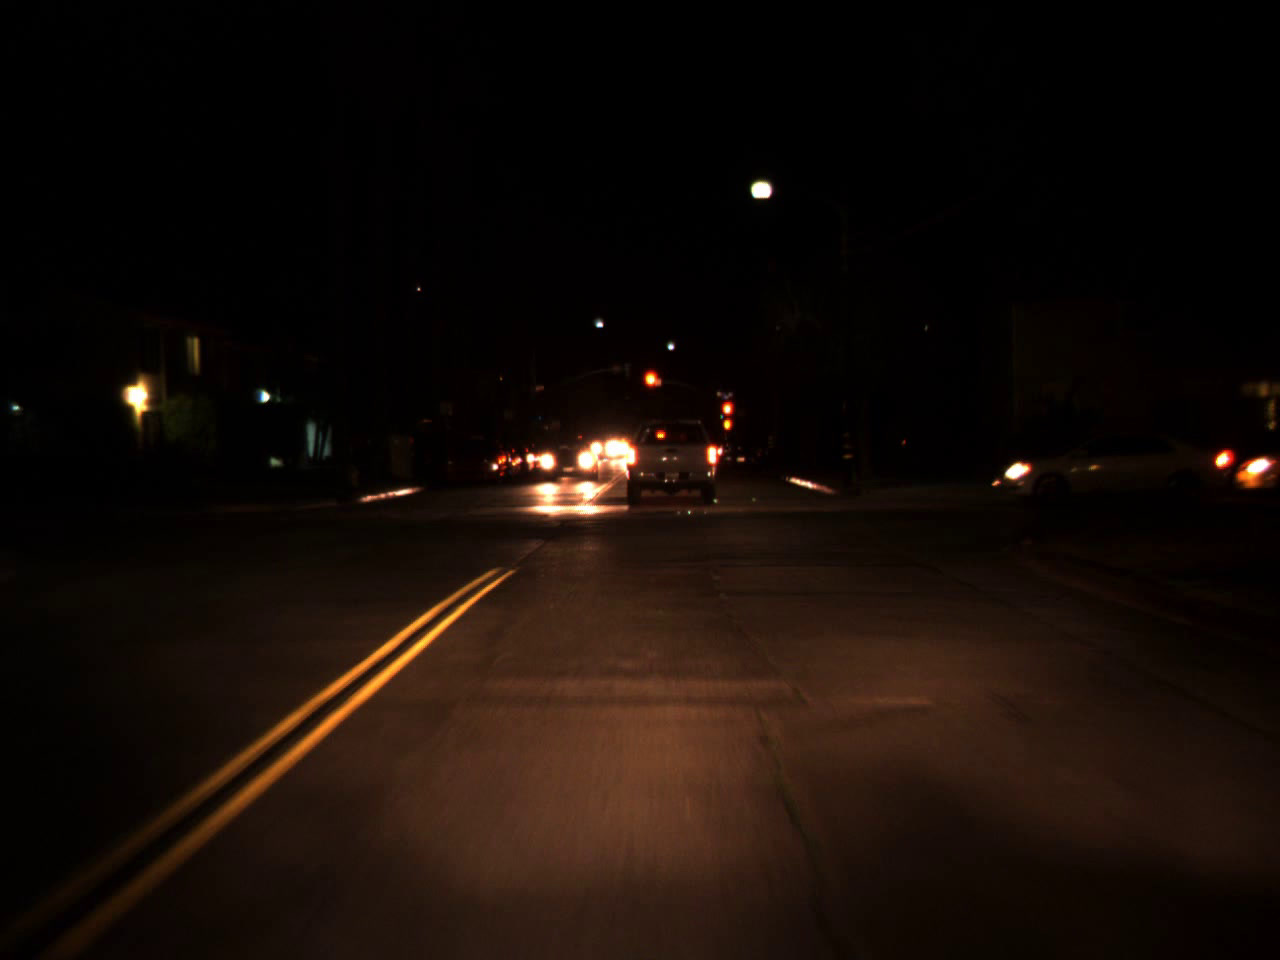stop: (641, 368, 663, 405), (720, 400, 733, 429)
